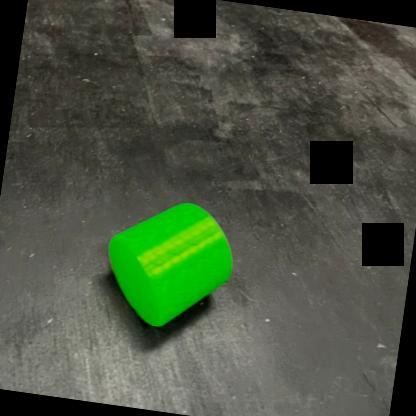green cylinder: (94, 187, 247, 342)
